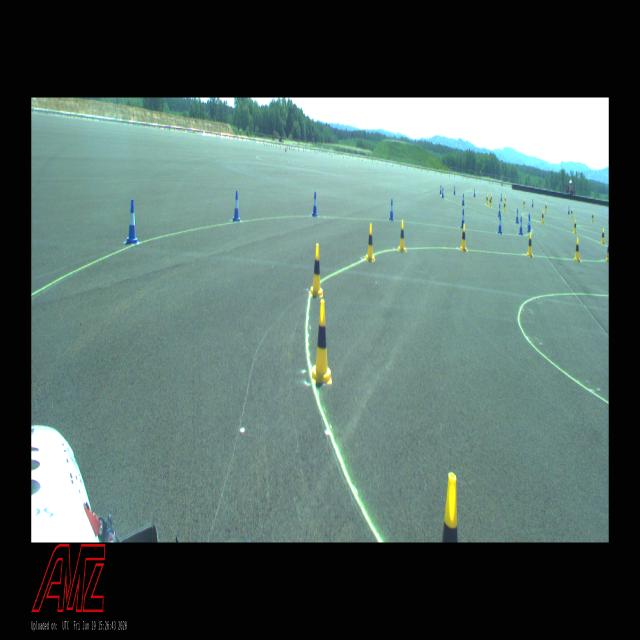blue_cone: (126, 200, 138, 243), (232, 191, 240, 221), (312, 192, 318, 216), (389, 198, 394, 220), (519, 216, 523, 235), (498, 215, 502, 234), (460, 210, 464, 228), (527, 214, 531, 232), (498, 204, 501, 217), (516, 209, 518, 223), (439, 185, 442, 194), (462, 194, 464, 205), (442, 188, 444, 198), (532, 198, 534, 208), (568, 206, 570, 215), (500, 193, 502, 201), (474, 189, 476, 197), (454, 187, 456, 194)
yellow_cone: (312, 299, 332, 384), (442, 472, 458, 542), (309, 244, 323, 298), (366, 224, 376, 262), (398, 220, 406, 252), (460, 224, 467, 252), (527, 232, 533, 258), (574, 238, 580, 262), (601, 228, 605, 244), (606, 242, 608, 260), (574, 220, 576, 233), (541, 211, 543, 223), (503, 200, 505, 212), (486, 194, 488, 204), (489, 196, 491, 206), (545, 202, 547, 212), (570, 209, 572, 217), (523, 200, 525, 208), (592, 213, 594, 221)
